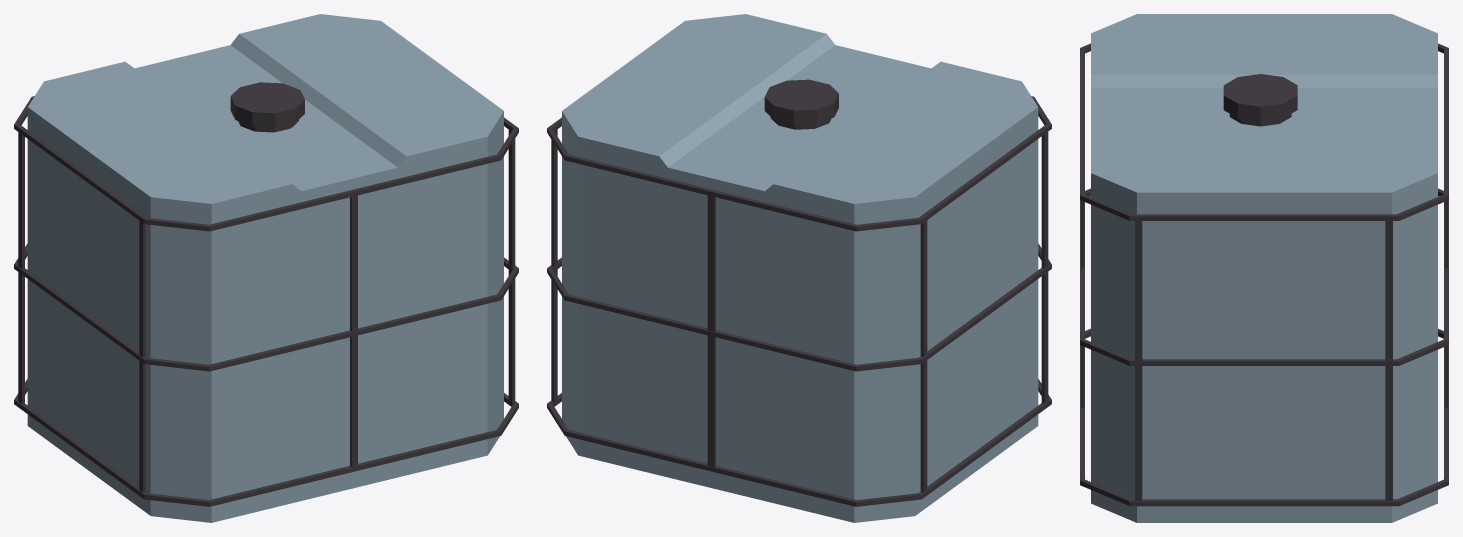
Rendered from Large_Water_Container.fbx.
3 renders of one model, left to right at view 1: azimuth 30°, elevation 25°; view 2: azimuth 150°, elevation 25°; view 3: azimuth 270°, elevation 25°, orthographic. The views are drawn at different scales.
Parts seen in each view (by area): view 1: Large_Water_Container; view 2: Large_Water_Container; view 3: Large_Water_Container.
Boxes of the visible parts, box(x1,y1,x2,y2) form: Large_Water_Container: box(14, 14, 518, 522); Large_Water_Container: box(547, 14, 1051, 522); Large_Water_Container: box(1080, 14, 1448, 522).
Bounding box in the file's own units: 1.23 × 1.04 × 1.01.
